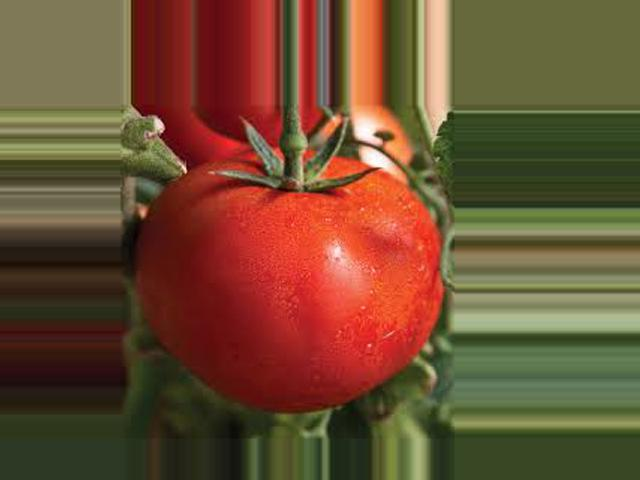tomato: (137, 149, 443, 410)
